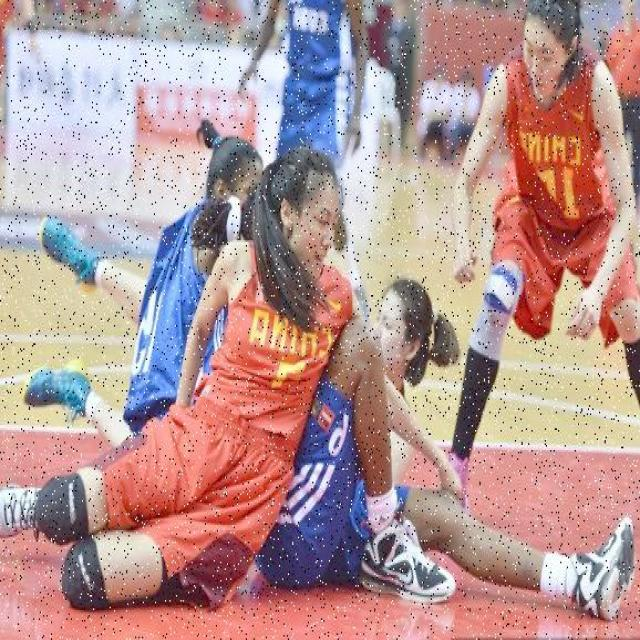fall: (40, 166, 346, 606)
